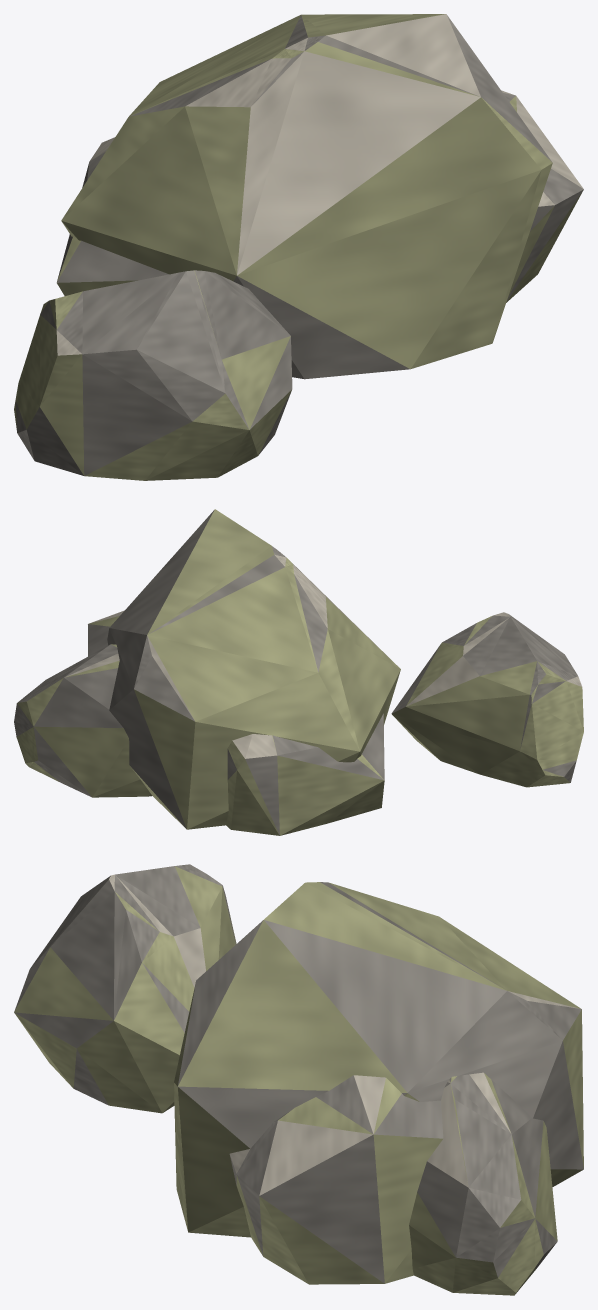
File: rock_cluster_04.fbx
3 views of the same model, one above another, from view 1: azimuth 30°, elevation 25°; view 2: azimuth 150°, elevation 25°; view 3: azimuth 270°, elevation 25° (orthographic). The views are drawn at different scales.
Visible parts, largest first — view 1: rock_cluster_04; view 2: rock_cluster_04; view 3: rock_cluster_04.
Boxes of the visible parts, left/top/right/bottom form: rock_cluster_04: left=14, top=14, right=583, bottom=480; rock_cluster_04: left=14, top=509, right=583, bottom=835; rock_cluster_04: left=14, top=864, right=583, bottom=1295.
Size of the model in its own units: 4.69 by 2.16 by 3.62.
